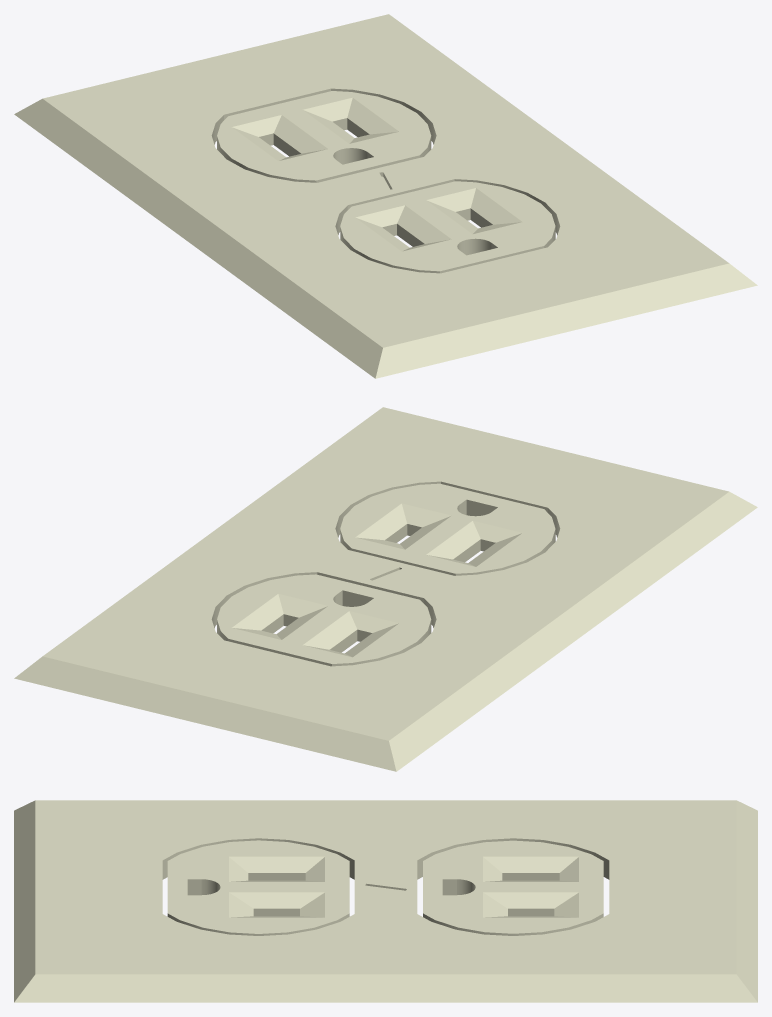
The model's file is Wall_Plate_-_Outlet.dae.
The picture shows the model from 3 angles, top to bottom: view 1: azimuth 30°, elevation 25°; view 2: azimuth 150°, elevation 25°; view 3: azimuth 270°, elevation 25°; orthographic projection. The views are drawn at different scales.
Parts seen in each view (by area): view 1: Wall_Plate_-_Outlet (×3), Electrical_Outlet (×6); view 2: Wall_Plate_-_Outlet (×3), Electrical_Outlet (×6); view 3: Wall_Plate_-_Outlet (×4), Electrical_Outlet (×8).
Boxes of the visible parts, left/top/right/bottom form: Wall_Plate_-_Outlet (×3): left=14, top=14, right=757, bottom=378; Electrical_Outlet (×6): left=217, top=91, right=555, bottom=273; Wall_Plate_-_Outlet (×3): left=14, top=407, right=757, bottom=771; Electrical_Outlet (×6): left=217, top=483, right=555, bottom=666; Wall_Plate_-_Outlet (×4): left=14, top=800, right=757, bottom=1002; Electrical_Outlet (×8): left=167, top=840, right=603, bottom=935.
Bounding box in the file's own units: 2.75 × 4.5 × 0.13.
